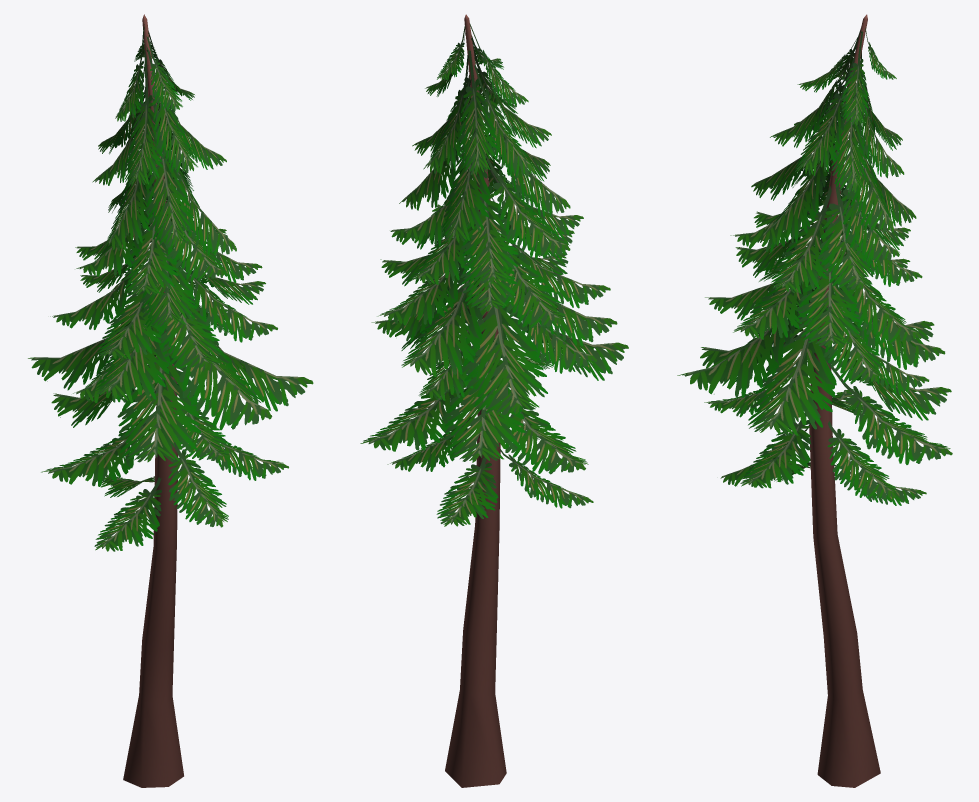
The model's file is Pine_Tree_1B.fbx.
3 renders of one model, left to right at view 1: azimuth 30°, elevation 25°; view 2: azimuth 150°, elevation 25°; view 3: azimuth 270°, elevation 25°, orthographic.
Parts seen in each view (by area): view 1: Pine_Tree_1B; view 2: Pine_Tree_1B; view 3: Pine_Tree_1B.
Boxes of the visible parts, box(x1,y1,x2,y2) form: Pine_Tree_1B: box(28, 14, 313, 787); Pine_Tree_1B: box(360, 14, 628, 787); Pine_Tree_1B: box(677, 14, 952, 787).
Bounding box in the file's own units: 173 × 501 × 178.
